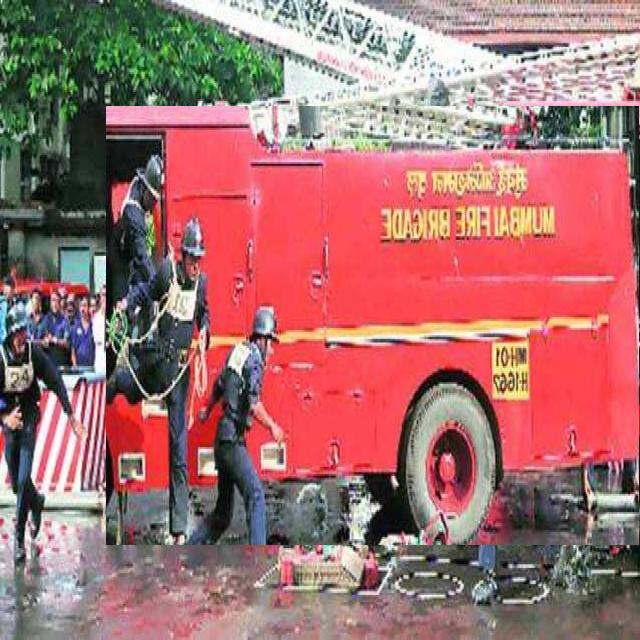emergency: (106, 106, 640, 545)
